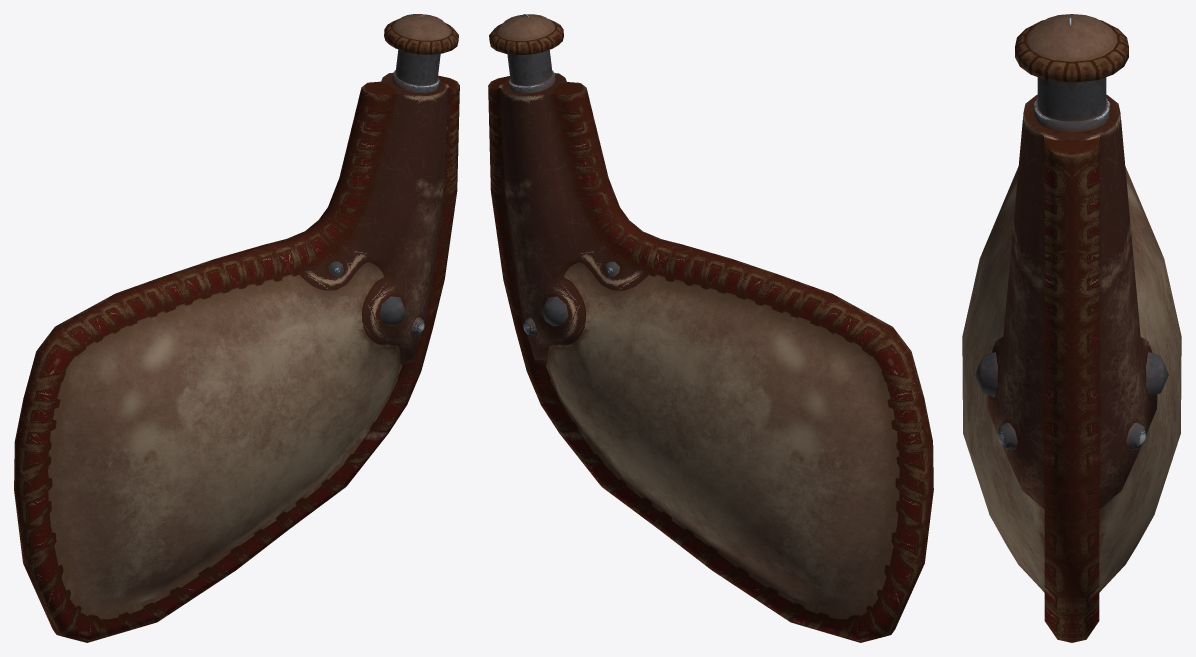
File: shuidai.FBX
3 views of the same model, side by side, from view 1: azimuth 30°, elevation 25°; view 2: azimuth 150°, elevation 25°; view 3: azimuth 270°, elevation 25° (orthographic). The views are drawn at different scales.
Visible parts, largest first — view 1: shuidai; view 2: shuidai; view 3: shuidai.
Part boxes in pixels (left/top/right/bottom): shuidai: left=14, top=14, right=459, bottom=642; shuidai: left=488, top=14, right=933, bottom=642; shuidai: left=962, top=14, right=1181, bottom=642.
Size of the model in its own units: 25.11 by 29.57 by 7.17.
1 material, 1 textured.
